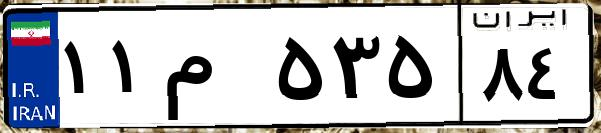1: (57, 26, 110, 100), (110, 28, 158, 98)
3: (330, 28, 385, 110)
4: (525, 38, 570, 115)
5: (270, 28, 330, 110), (385, 28, 445, 110)
8: (475, 38, 525, 113)
م: (158, 20, 270, 120)
